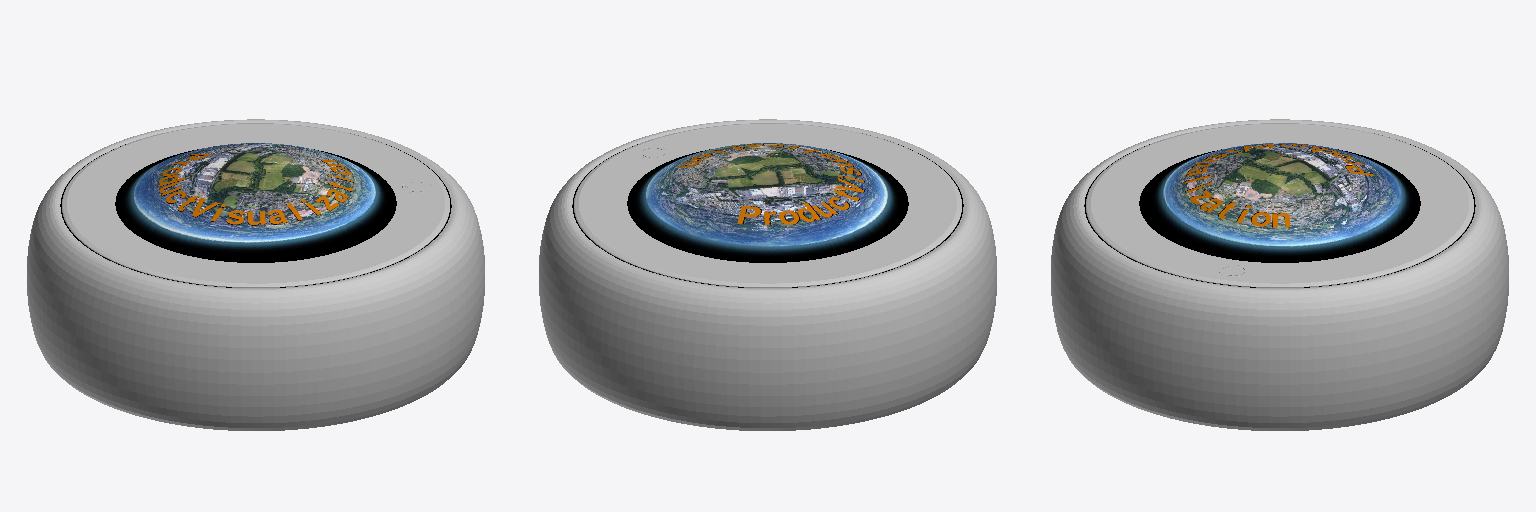
3 views of the same model, side by side, from view 1: azimuth 30°, elevation 25°; view 2: azimuth 150°, elevation 25°; view 3: azimuth 270°, elevation 25° (orthographic).
Parts seen in each view (by area): view 1: Cylinder_Cylinder_Tessuto, Cylinder_Cylinder_Display, Cylinder_Cylinder_Plastica, Cylinder_Cylinder_Gomma; view 2: Cylinder_Cylinder_Tessuto, Cylinder_Cylinder_Display, Cylinder_Cylinder_Plastica, Cylinder_Cylinder_Gomma; view 3: Cylinder_Cylinder_Tessuto, Cylinder_Cylinder_Display, Cylinder_Cylinder_Plastica, Cylinder_Cylinder_Gomma.
Part boxes in pixels (bbox=[...]): Cylinder_Cylinder_Tessuto: bbox=[27, 119, 484, 430]; Cylinder_Cylinder_Display: bbox=[120, 143, 391, 260]; Cylinder_Cylinder_Plastica: bbox=[62, 123, 449, 287]; Cylinder_Cylinder_Gomma: bbox=[60, 144, 451, 287]; Cylinder_Cylinder_Tessuto: bbox=[539, 119, 996, 430]; Cylinder_Cylinder_Display: bbox=[632, 143, 903, 260]; Cylinder_Cylinder_Plastica: bbox=[574, 123, 961, 287]; Cylinder_Cylinder_Gomma: bbox=[572, 144, 963, 287]; Cylinder_Cylinder_Tessuto: bbox=[1051, 119, 1508, 430]; Cylinder_Cylinder_Display: bbox=[1144, 143, 1415, 260]; Cylinder_Cylinder_Plastica: bbox=[1086, 123, 1473, 287]; Cylinder_Cylinder_Gomma: bbox=[1084, 144, 1475, 287].
Size of the model in its own units: 0.5464 by 0.2245 by 0.5464.
5 materials, 1 textured.